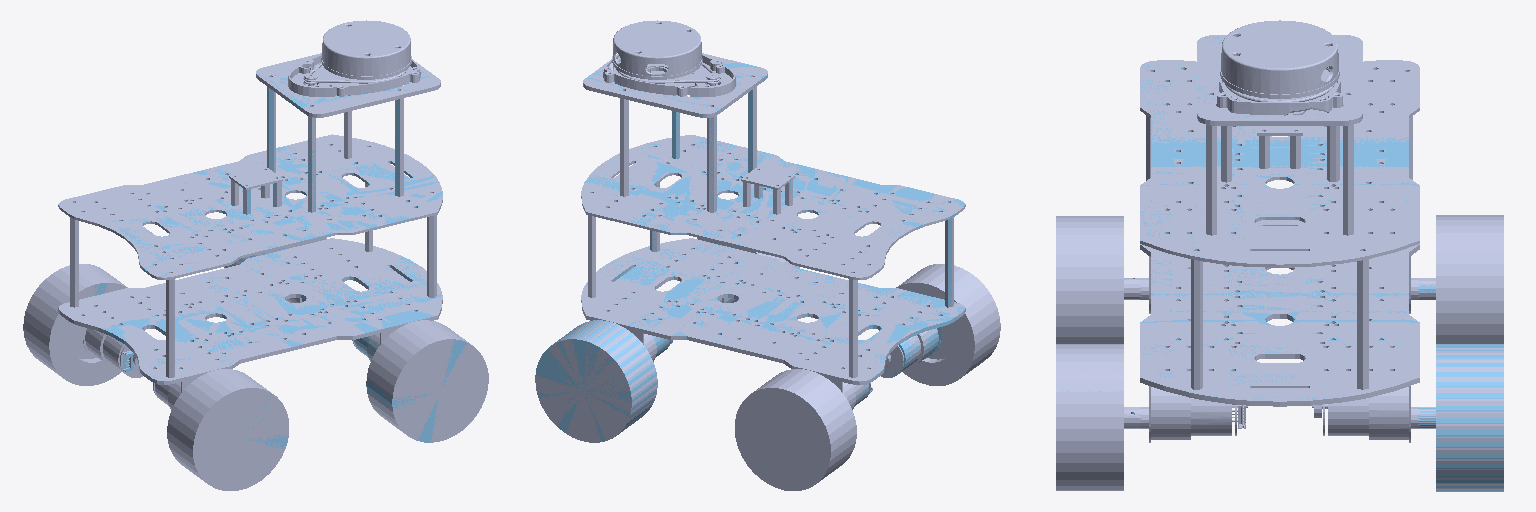
The robot description file, URDF, robot "amr_description":
<?xml version="1.0" encoding="utf-8"?>
<!-- This URDF was automatically created by SolidWorks to URDF Exporter! Originally created by Stephen Brawner (brawner@gmail.com) 
     Commit Version: 1.6.0-4-g7f85cfe  Build Version: 1.6.7995.38578
     For more information, please see http://wiki.ros.org/sw_urdf_exporter -->
<robot
  name="amr_description">
  <link
    name="base_link">
    <inertial>
      <origin
        xyz="0.00684848222205554 -5.63696236989484E-07 0.0106907624902936"
        rpy="0 0 0" />
      <mass
        value="0.398031065440084" />
      <inertia
        ixx="0.000396886764541664"
        ixy="-2.73962834116164E-07"
        ixz="1.33154409938878E-16"
        iyy="0.000960303527517054"
        iyz="-6.40916224247194E-15"
        izz="0.00130771160939692" />
    </inertial>
    <visual>
      <origin
        xyz="0 0 0"
        rpy="0 0 0" />
      <geometry>
        <mesh
          filename="package://amr_description/meshes/base_link.STL" />
      </geometry>
      <material
        name="">
        <color
          rgba="0.792156862745098 0.819607843137255 0.933333333333333 1" />
      </material>
    </visual>
    <collision>
      <origin
        xyz="0 0 0"
        rpy="0 0 0" />
      <geometry>
        <mesh
          filename="package://amr_description/meshes/base_link.STL" />
      </geometry>
    </collision>
  </link>
  <link
    name="LiDAR_Link">
    <inertial>
      <origin
        xyz="-0.014842 -0.00031441 -0.021154"
        rpy="0 0 0" />
      <mass
        value="0.031241" />
      <inertia
        ixx="8.8775E-06"
        ixy="-1.2725E-07"
        ixz="-1.1333E-07"
        iyy="1.4494E-05"
        iyz="-3.3591E-08"
        izz="2.2529E-05" />
    </inertial>
    <visual>
      <origin
        xyz="0 0 0"
        rpy="0 0 0" />
      <geometry>
        <mesh
          filename="package://amr_description/meshes/LiDAR_Link.STL" />
      </geometry>
      <material
        name="">
        <color
          rgba="0.79216 0.81961 0.93333 1" />
      </material>
    </visual>
    <collision>
      <origin
        xyz="0 0 0"
        rpy="0 0 0" />
      <geometry>
        <mesh
          filename="package://amr_description/meshes/LiDAR_Link.STL" />
      </geometry>
    </collision>
  </link>
  <joint
    name="base-lidar_joint"
    type="fixed">
    <origin
      xyz="0.091609 0.00013794 0.192"
      rpy="0 0 0" />
    <parent
      link="base_link" />
    <child
      link="LiDAR_Link" />
    <axis
      xyz="0 0 0" />
  </joint>
  <link
    name="IMU_Link">
    <inertial>
      <origin
        xyz="0 2.9289E-20 -0.0008"
        rpy="0 0 0" />
      <mass
        value="0.0011958" />
      <inertia
        ixx="6.0023E-08"
        ixy="5.0487E-25"
        ixz="1.7883E-25"
        iyy="9.41E-08"
        iyz="-7.4153E-27"
        izz="1.5361E-07" />
    </inertial>
    <visual>
      <origin
        xyz="0 0 0"
        rpy="0 0 0" />
      <geometry>
        <mesh
          filename="package://amr_description/meshes/IMU_Link.STL" />
      </geometry>
      <material
        name="">
        <color
          rgba="0.79216 0.81961 0.93333 1" />
      </material>
    </visual>
    <collision>
      <origin
        xyz="0 0 0"
        rpy="0 0 0" />
      <geometry>
        <mesh
          filename="package://amr_description/meshes/IMU_Link.STL" />
      </geometry>
    </collision>
  </link>
  <joint
    name="base-imu_joint"
    type="fixed">
    <origin
      xyz="0 0 0.1036"
      rpy="0 0 0" />
    <parent
      link="base_link" />
    <child
      link="IMU_Link" />
    <axis
      xyz="0 0 0" />
  </joint>
  <link
    name="front-left-wheel_link">
    <inertial>
      <origin
        xyz="2.3952E-07 0.00069909 2.4434E-07"
        rpy="0 0 0" />
      <mass
        value="0.17845" />
      <inertia
        ixx="9.3297E-05"
        ixy="1.0258E-09"
        ixz="1.3873E-10"
        iyy="0.00014723"
        iyz="1.0465E-09"
        izz="9.3297E-05" />
    </inertial>
    <visual>
      <origin
        xyz="0 0 0"
        rpy="0 0 0" />
      <geometry>
        <mesh
          filename="package://amr_description/meshes/front-left-wheel_link.STL" />
      </geometry>
      <material
        name="">
        <color
          rgba="0.61176 0.83529 1 1" />
      </material>
    </visual>
    <collision>
      <origin
        xyz="0 0 0"
        rpy="0 0 0" />
      <geometry>
        <mesh
          filename="package://amr_description/meshes/front-left-wheel_link.STL" />
      </geometry>
    </collision>
  </link>
  <joint
    name="base-front-left-wheel_joint"
    type="continuous">
    <origin
      xyz="0.08250000000001 0.1031 -0.0355"
      rpy="0 0 0" />
    <parent
      link="base_link" />
    <child
      link="front-left-wheel_link" />
    <axis
      xyz="0 -1 0" />
  </joint>
  <link
    name="rear-left-wheel_link">
    <inertial>
      <origin
        xyz="1.12714871908226E-07 0.000699092330700035 3.23062502187443E-07"
        rpy="0 0 0" />
      <mass
        value="0.178447602520797" />
      <inertia
        ixx="9.32966051380864E-05"
        ixy="4.82721831360979E-10"
        ixz="8.63148078736483E-11"
        iyy="0.000147228529587251"
        iyz="1.38364727908145E-09"
        izz="9.32968224213931E-05" />
    </inertial>
    <visual>
      <origin
        xyz="0 0 0"
        rpy="0 0 0" />
      <geometry>
        <mesh
          filename="package://amr_description/meshes/rear-left-wheel_link.STL" />
      </geometry>
      <material
        name="">
        <color
          rgba="0.611764705882353 0.835294117647059 1 1" />
      </material>
    </visual>
    <collision>
      <origin
        xyz="0 0 0"
        rpy="0 0 0" />
      <geometry>
        <mesh
          filename="package://amr_description/meshes/rear-left-wheel_link.STL" />
      </geometry>
    </collision>
  </link>
  <joint
    name="base-rear-left-wheel_joint"
    type="continuous">
    <origin
      xyz="-0.0825 0.1031 -0.0355"
      rpy="0 0 0" />
    <parent
      link="base_link" />
    <child
      link="rear-left-wheel_link" />
    <axis
      xyz="0 -1 0" />
  </joint>
  <link
    name="front-right-wheel_link">
    <inertial>
      <origin
        xyz="-2.4019E-07 -0.00069909 -2.4369E-07"
        rpy="0 0 0" />
      <mass
        value="0.17845" />
      <inertia
        ixx="9.3297E-05"
        ixy="1.0287E-09"
        ixz="1.3874E-10"
        iyy="0.00014723"
        iyz="1.0437E-09"
        izz="9.3297E-05" />
    </inertial>
    <visual>
      <origin
        xyz="0 0 0"
        rpy="0 0 0" />
      <geometry>
        <mesh
          filename="package://amr_description/meshes/front-right-wheel_link.STL" />
      </geometry>
      <material
        name="">
        <color
          rgba="0.61176 0.83529 1 1" />
      </material>
    </visual>
    <collision>
      <origin
        xyz="0 0 0"
        rpy="0 0 0" />
      <geometry>
        <mesh
          filename="package://amr_description/meshes/front-right-wheel_link.STL" />
      </geometry>
    </collision>
  </link>
  <joint
    name="base-front-right-wheel_joint"
    type="continuous">
    <origin
      xyz="0.0825 -0.1031 -0.0355"
      rpy="0 0 0" />
    <parent
      link="base_link" />
    <child
      link="front-right-wheel_link" />
    <axis
      xyz="0 1 0" />
  </joint>
  <link
    name="rear-right-wheel_link">
    <inertial>
      <origin
        xyz="6.5816E-08 -0.00069909 -3.3577E-07"
        rpy="0 0 0" />
      <mass
        value="0.17845" />
      <inertia
        ixx="9.3297E-05"
        ixy="-2.8186E-10"
        ixz="-5.2383E-11"
        iyy="0.00014723"
        iyz="1.4381E-09"
        izz="9.3297E-05" />
    </inertial>
    <visual>
      <origin
        xyz="0 0 0"
        rpy="0 0 0" />
      <geometry>
        <mesh
          filename="package://amr_description/meshes/rear-right-wheel_link.STL" />
      </geometry>
      <material
        name="">
        <color
          rgba="0.61176 0.83529 1 1" />
      </material>
    </visual>
    <collision>
      <origin
        xyz="0 0 0"
        rpy="0 0 0" />
      <geometry>
        <mesh
          filename="package://amr_description/meshes/rear-right-wheel_link.STL" />
      </geometry>
    </collision>
  </link>
  <joint
    name="base-rear-right-wheel_joint"
    type="continuous">
    <origin
      xyz="-0.0825 -0.1031 -0.0355"
      rpy="0 0 0" />
    <parent
      link="base_link" />
    <child
      link="rear-right-wheel_link" />
    <axis
      xyz="0 1 0" />
  </joint>
</robot>

--- What the picture shows (computed from the rendered views, not written in the file) ---
Views: 3 orthographic renders of the robot side by side, from view 1: azimuth 30°, elevation 25°; view 2: azimuth 150°, elevation 25°; view 3: azimuth 270°, elevation 25°.
Robot: amr_description — 7 links, 6 joints (4 continuous, 2 fixed); root link base_link; default pose: all joints at 0.
Links seen in each view (by area): view 1: base_link, LiDAR_Link, rear-left-wheel_link, front-right-wheel_link; view 2: base_link, LiDAR_Link, rear-left-wheel_link, front-left-wheel_link; view 3: LiDAR_Link, base_link, rear-left-wheel_link, front-left-wheel_link.
Link boxes in pixels (x1=…): base_link: x1=23, y1=21, x2=488, y2=490; LiDAR_Link: x1=58, y1=20, x2=442, y2=488; rear-left-wheel_link: x1=82, y1=70, x2=442, y2=449; front-right-wheel_link: x1=366, y1=321, x2=466, y2=442; base_link: x1=535, y1=21, x2=1000, y2=490; LiDAR_Link: x1=581, y1=20, x2=974, y2=394; rear-left-wheel_link: x1=584, y1=63, x2=965, y2=402; front-left-wheel_link: x1=535, y1=320, x2=657, y2=441; LiDAR_Link: x1=1056, y1=21, x2=1419, y2=442; base_link: x1=1056, y1=20, x2=1503, y2=490; rear-left-wheel_link: x1=1140, y1=36, x2=1435, y2=426; front-left-wheel_link: x1=1418, y1=344, x2=1503, y2=491.
Bounding box of the posed robot: 0.2621 × 0.2434 × 0.2675 m (x, y, z).
Meshes: 7 distinct files referenced, 7 mesh visuals loaded (7 binary STL).
